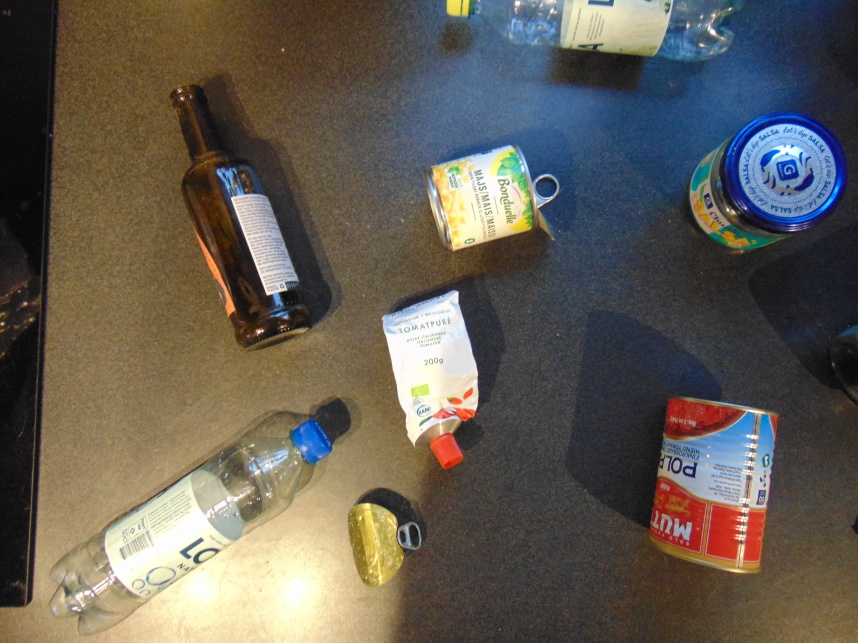glass_bottle: (167, 82, 311, 352), (685, 108, 842, 261)
metal: (381, 288, 486, 445), (726, 109, 844, 239), (346, 497, 420, 586)
metal_can: (646, 393, 781, 576), (421, 142, 538, 255)
plastic_bottle: (47, 415, 338, 642), (444, 1, 740, 63)
